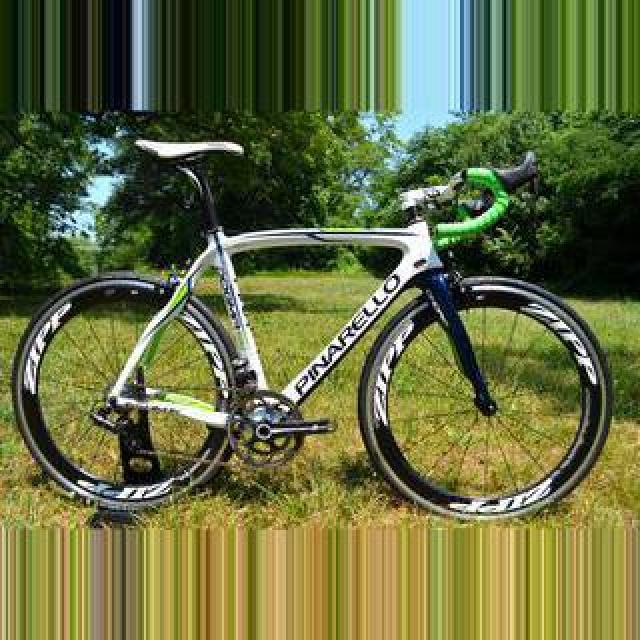Person: (16, 120, 606, 526)
